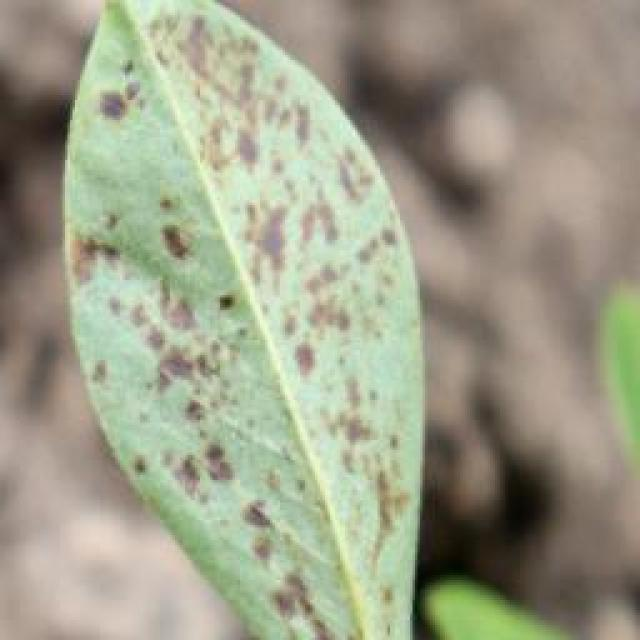Whitefly: (47, 0, 451, 634)
